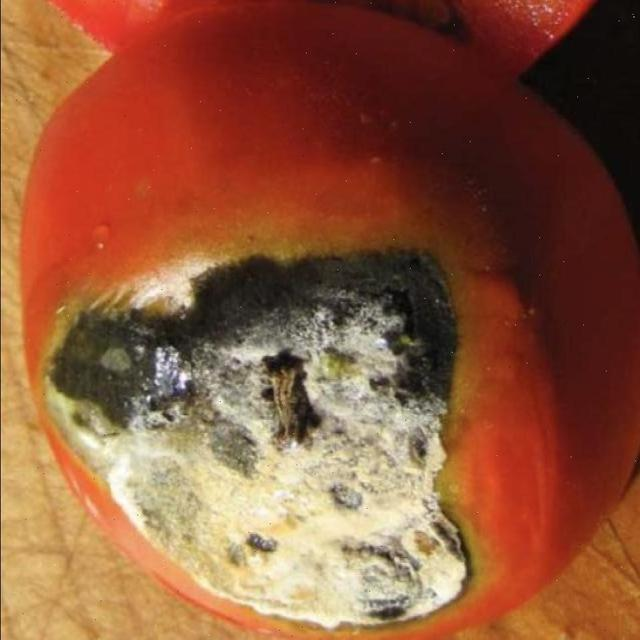Blossom End Rot Fruit: (12, 172, 342, 427)
